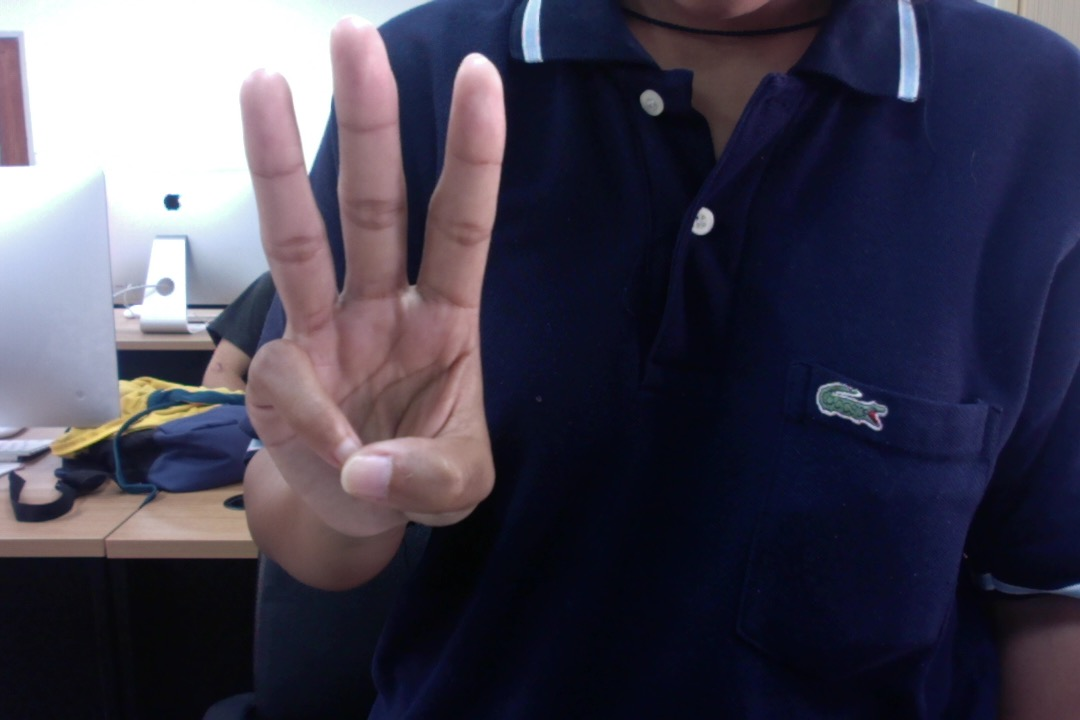wor: (209, 16, 508, 545)
